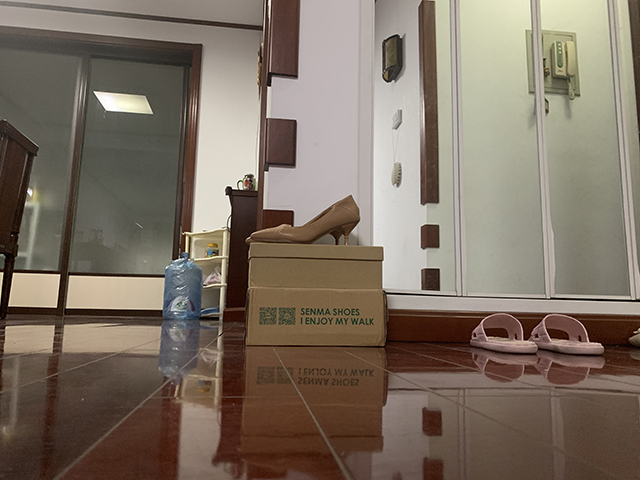slippers: (468, 312, 538, 357), (532, 313, 602, 358)
